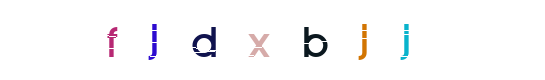B: (232, 0, 312, 80)
D: (208, 0, 288, 80)
F: (114, 0, 194, 80)
J: (151, 0, 231, 80), (323, 0, 403, 80), (366, 0, 446, 80)
X: (221, 0, 301, 80)
